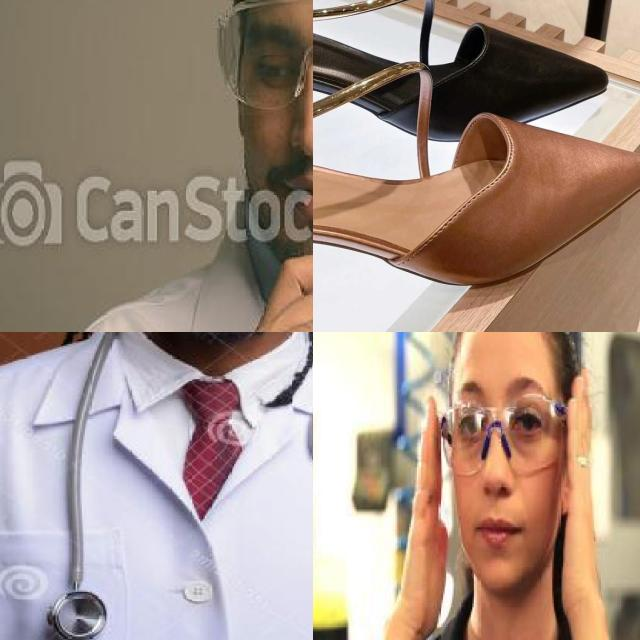Sandals: (313, 49, 640, 332), (313, 0, 614, 151)
face_nomask: (449, 408, 554, 564), (240, 26, 313, 237)
glasses: (213, 0, 313, 124), (436, 391, 569, 483)
hand_noglove: (555, 374, 608, 626), (405, 387, 453, 630)
head_nohelmet: (448, 332, 577, 362)
person: (21, 0, 313, 332), (0, 332, 313, 640), (356, 332, 640, 640)
